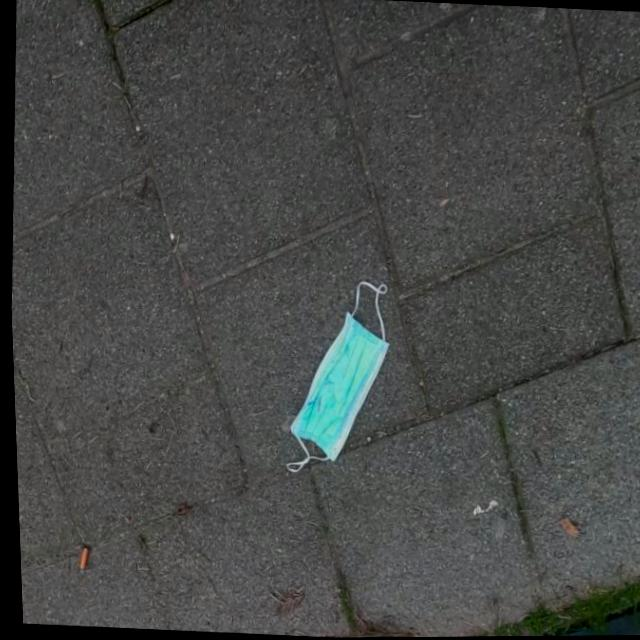Mask: (275, 274, 397, 481)
